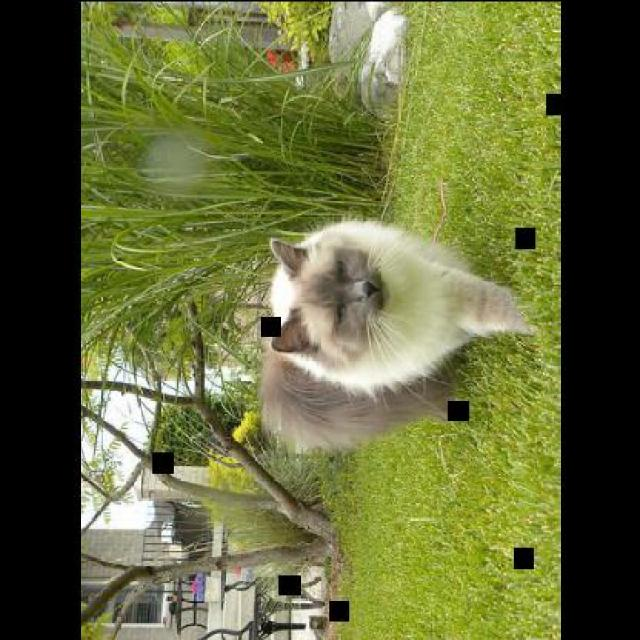unauthorized: (255, 215, 534, 456)
